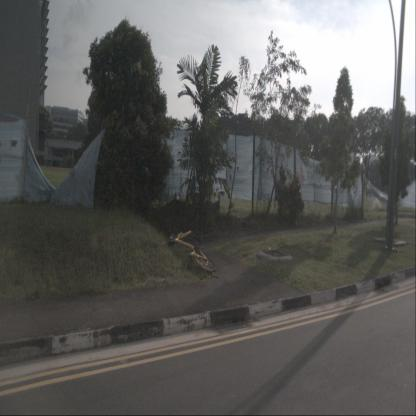human-pedestrian-adult: (377, 180, 382, 200)
vehicle-bicycle: (168, 230, 217, 274)
